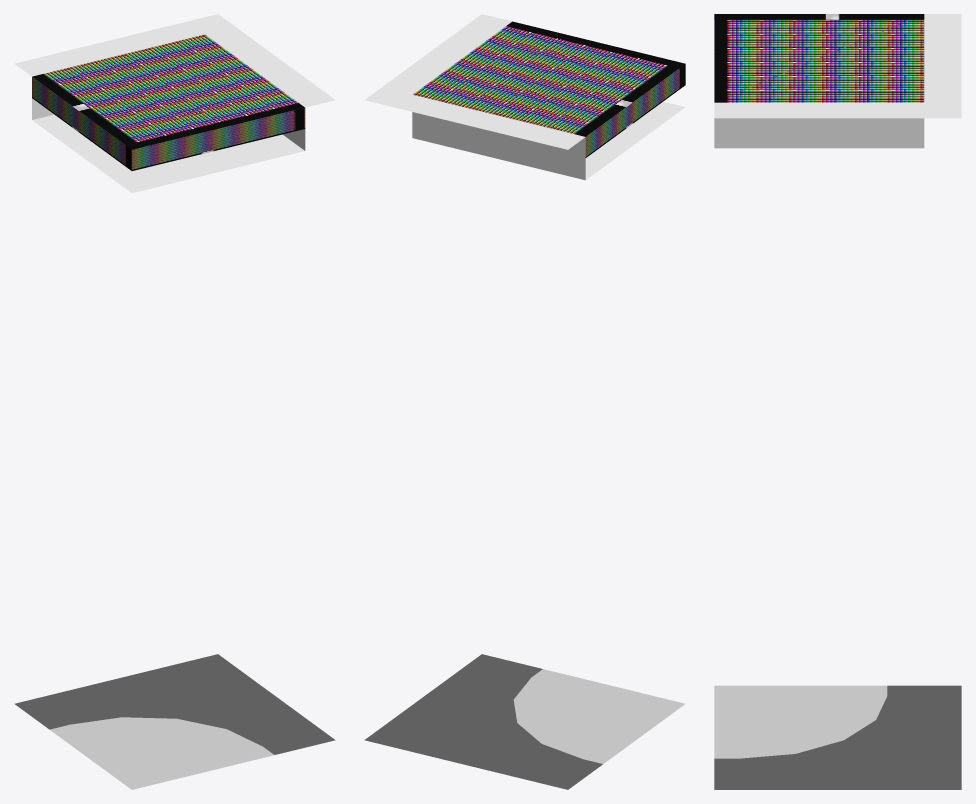
The model's file is ground_corner_1.fbx.
3 renders of one model, left to right at view 1: azimuth 30°, elevation 25°; view 2: azimuth 150°, elevation 25°; view 3: azimuth 270°, elevation 25°, orthographic. The views are drawn at different scales.
Parts seen in each view (by area): view 1: ground_corner_1, shadowsOnly, ceiling_corner_1; view 2: ground_corner_1, shadowsOnly, ceiling_corner_1; view 3: ground_corner_1, shadowsOnly, ceiling_corner_1.
Part boxes in pixels (<box>): ground_corner_1: <box>14,654,335,789</box>; shadowsOnly: <box>32,34,305,170</box>; ceiling_corner_1: <box>14,14,335,193</box>; ground_corner_1: <box>364,654,685,789</box>; shadowsOnly: <box>412,21,685,157</box>; ceiling_corner_1: <box>364,14,685,180</box>; ground_corner_1: <box>714,685,961,789</box>; shadowsOnly: <box>714,14,924,124</box>; ceiling_corner_1: <box>714,14,961,148</box>.
Size of what is drawn, in the model's own units: 100 by 300 by 100.
